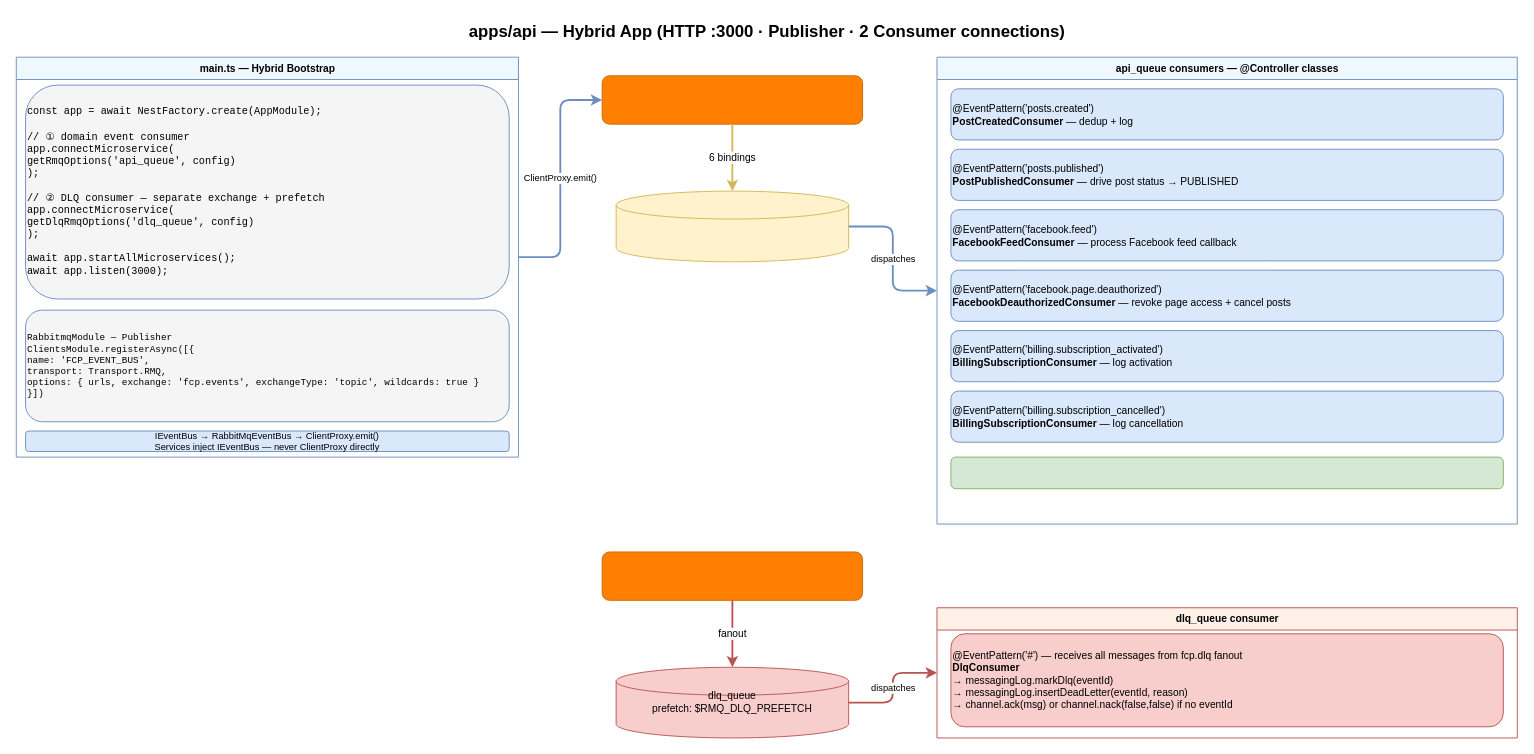
Some shapes in this 1534 by 754 pixel diagram are drawn without their labels. Each missing label, with the centre of its shape:
All handlers: RequestContext.create(orm, ...) + channel.ack / channel.nack: [1226,472]
api_queue durable | DLX: fcp.dlq: [732,226]
fcp.dlq (fanout): [732,575]
fcp.events (topic): [732,99]
